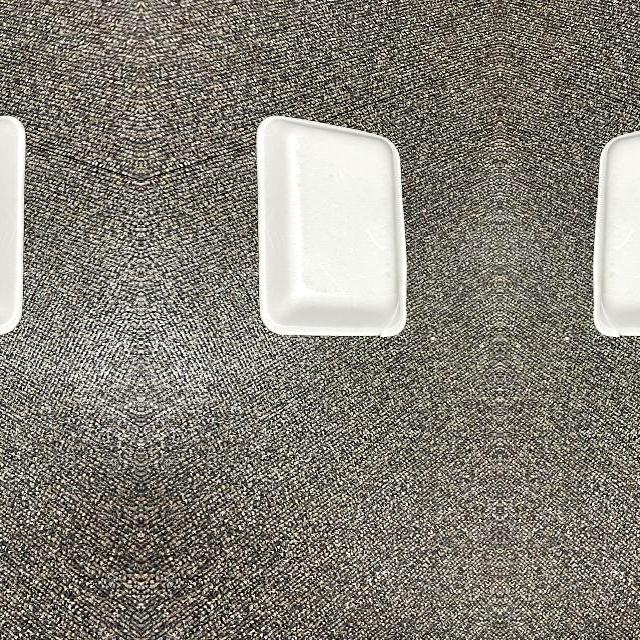Styrofoam: (254, 114, 408, 336), (256, 116, 406, 336), (590, 114, 640, 335), (592, 130, 640, 336)
